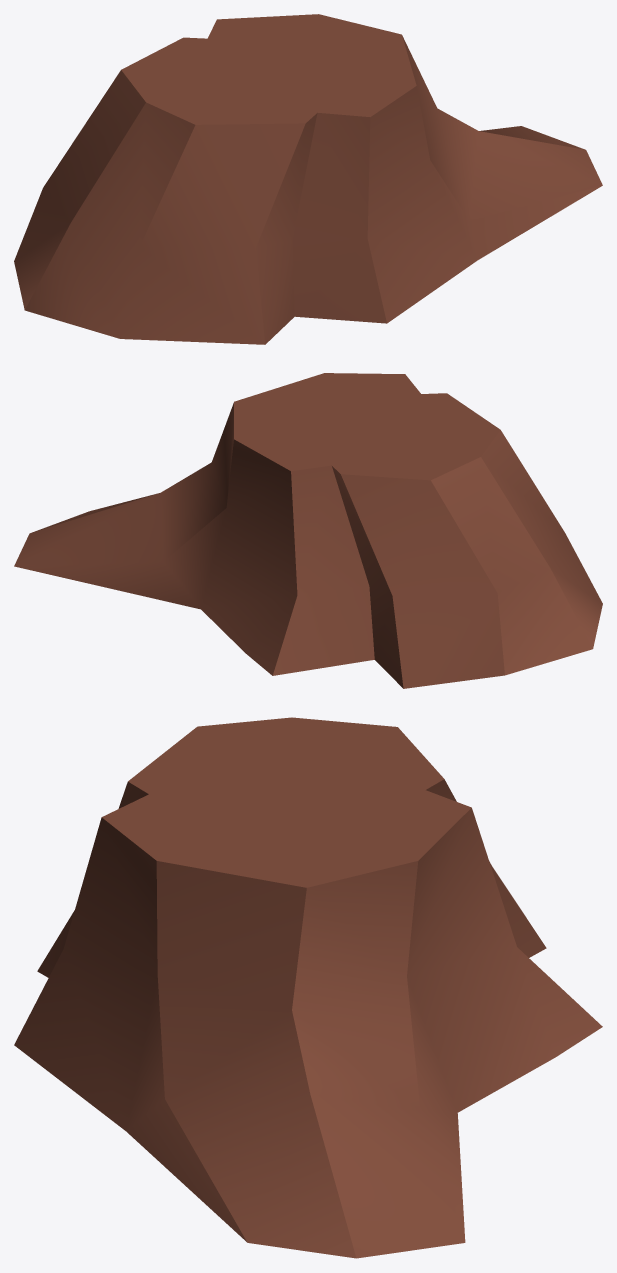
Rendered from FINAL_Tree_Bottom_1.fbx.
3 views of the same model, one above another, from view 1: azimuth 30°, elevation 25°; view 2: azimuth 150°, elevation 25°; view 3: azimuth 270°, elevation 25° (orthographic). The views are drawn at different scales.
Parts seen in each view (by area): view 1: Tree_free_03.003; view 2: Tree_free_03.003; view 3: Tree_free_03.003.
Boxes of the visible parts, <box> form: Tree_free_03.003: <box>14,14,602,344</box>; Tree_free_03.003: <box>14,373,602,688</box>; Tree_free_03.003: <box>14,717,602,1258</box>.
Bounding box in the file's own units: 160 × 46.71 × 105.
